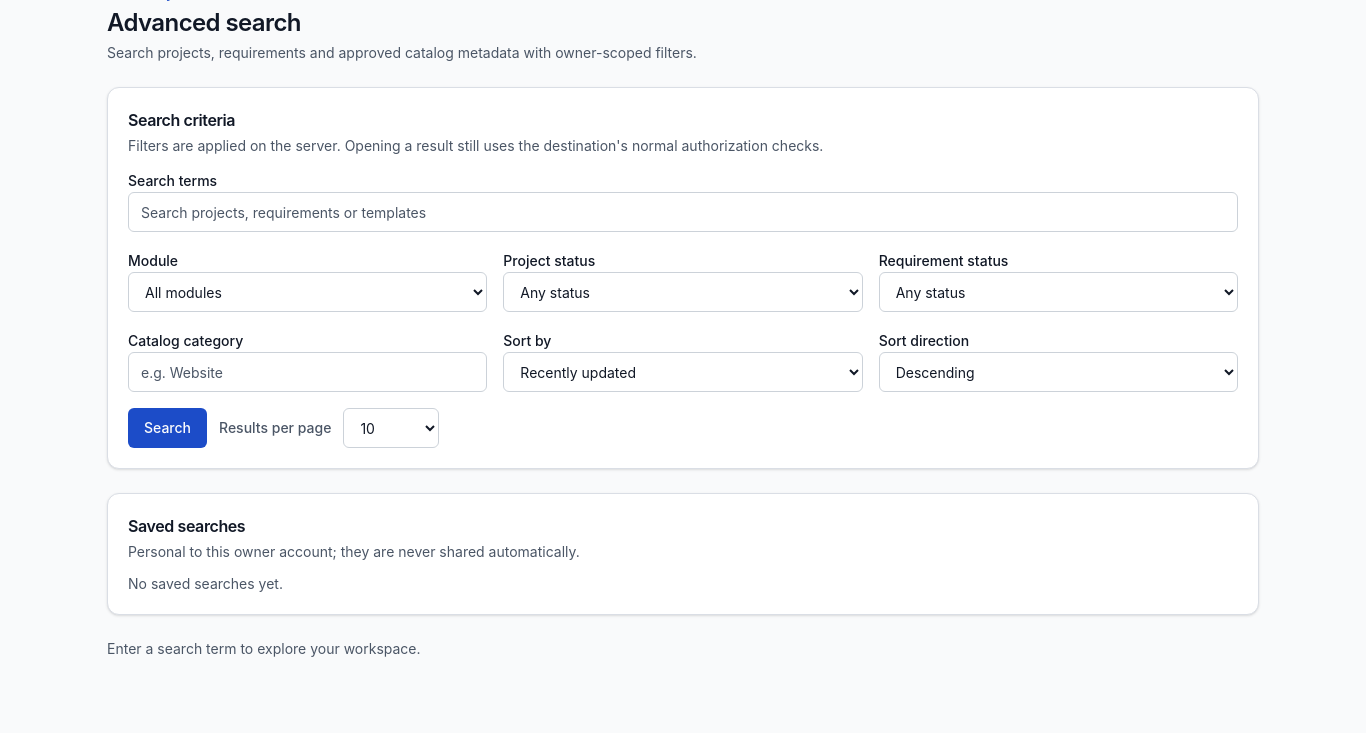
Scenario: SearchPage › runs filtered search, renders facets and saves the current query
This screenshot has width=1366, height=733.
In the field labelled "Search terms": (683, 212) [128,192,1238,232], type "portal"
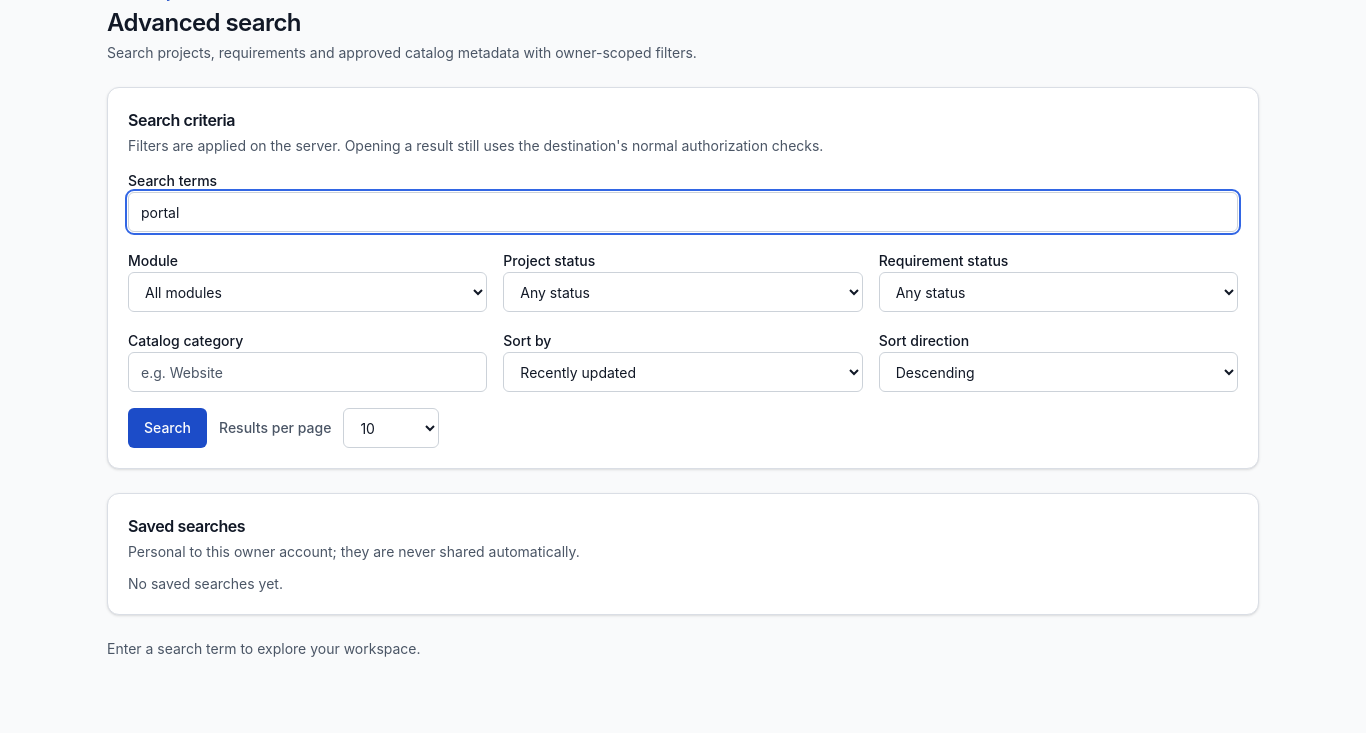
Select "Projects" in the dropdown labelled "Module": (308, 292) [128,272,487,312]
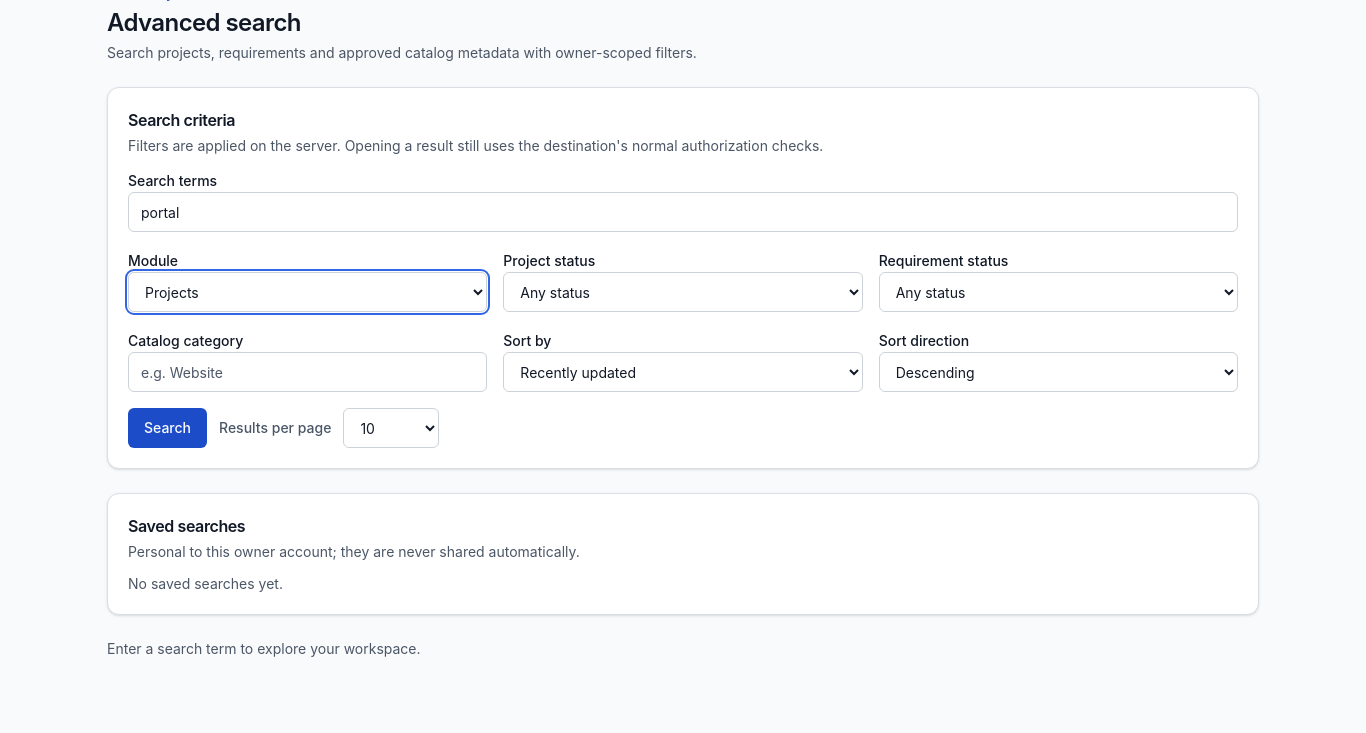
Click the button "Search": (168, 428) [128,408,207,448]
(page scrolled)
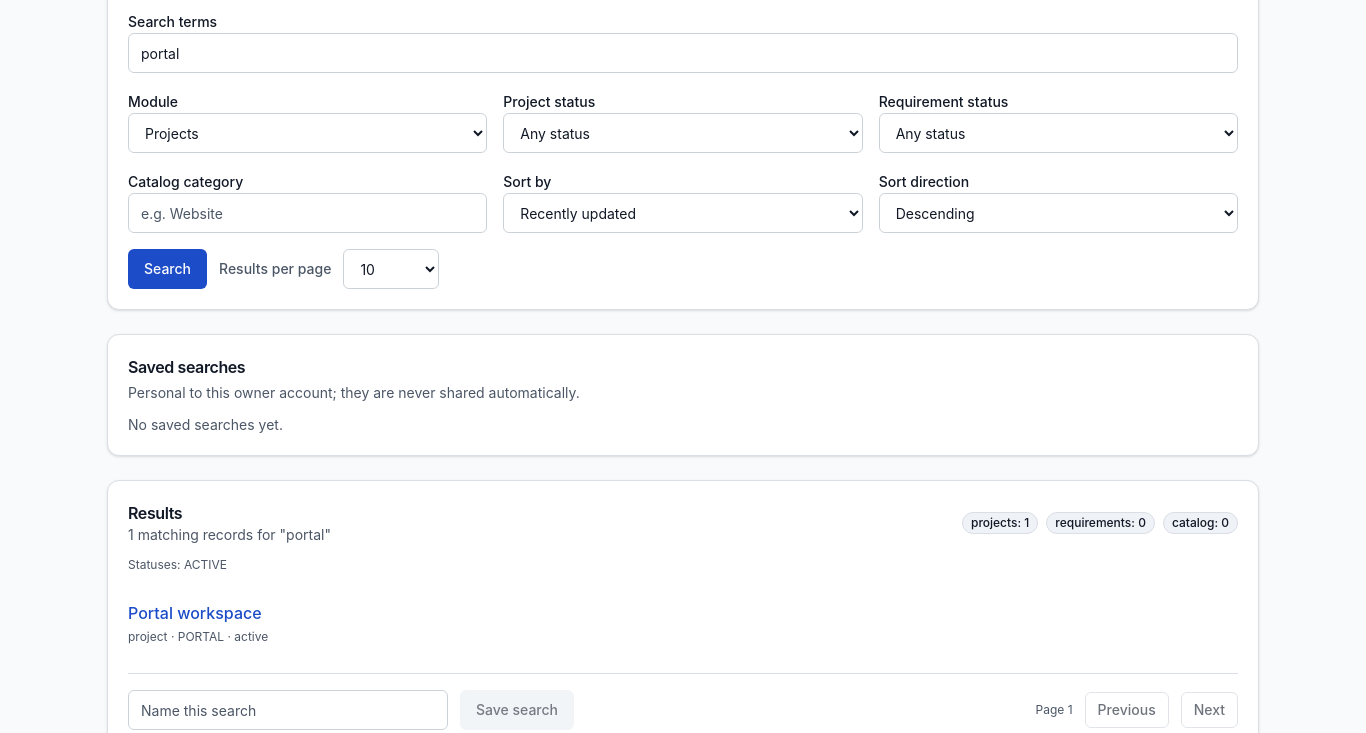
Expected: the link "Portal workspace" is shown, [128,603,262,623]
Expected: the text "projects: 1" is shown, [962,512,1038,534]
In the field labelled "Name this search": (288, 710) [128,690,448,730], type "Active projects"
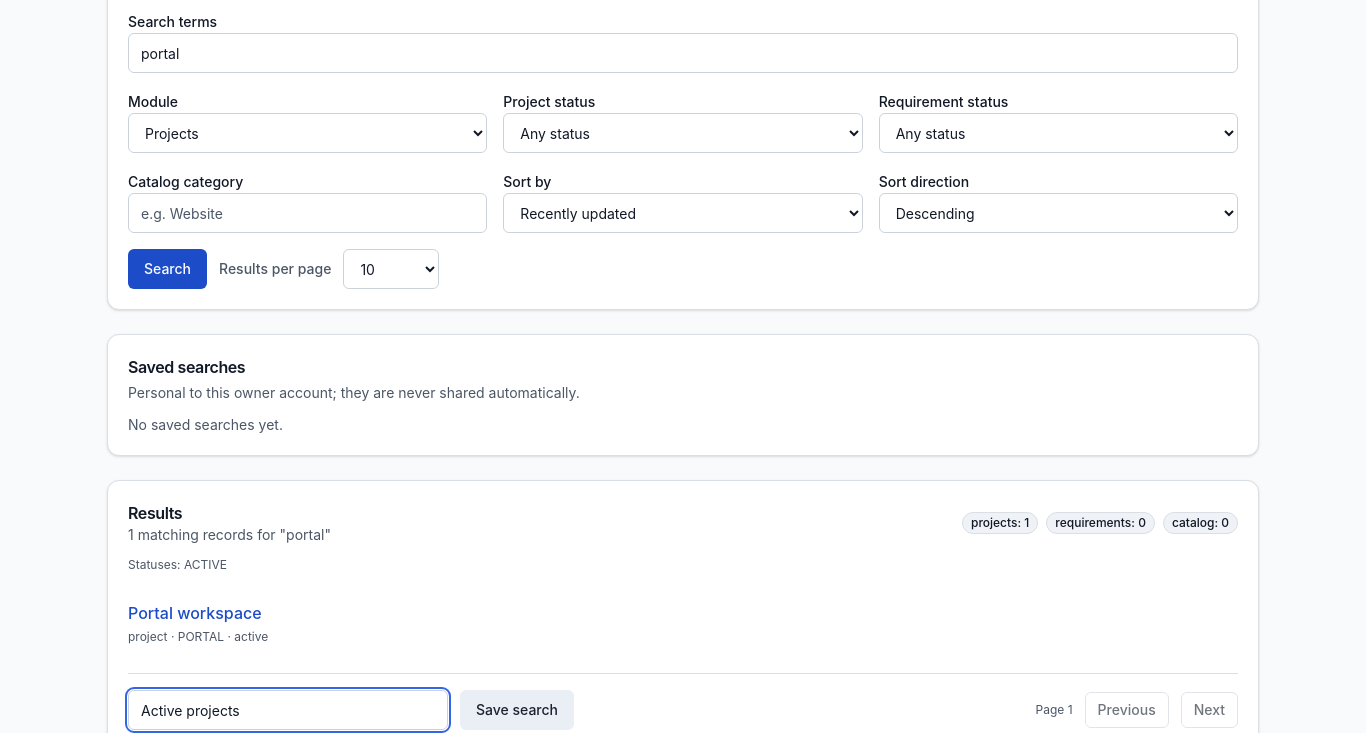
Click the button "Save search": (517, 710) [460,690,574,730]
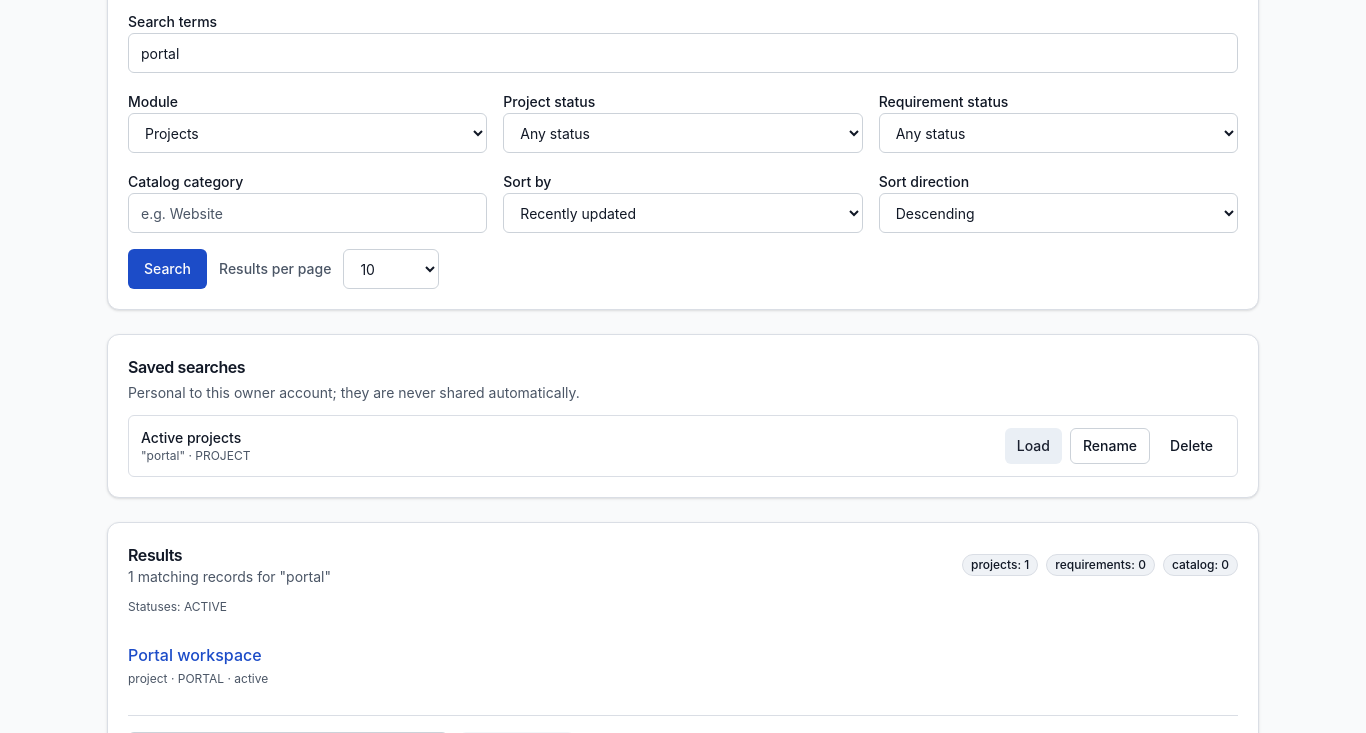
Expected: the text "Active projects" is shown, [141,428,250,448]
